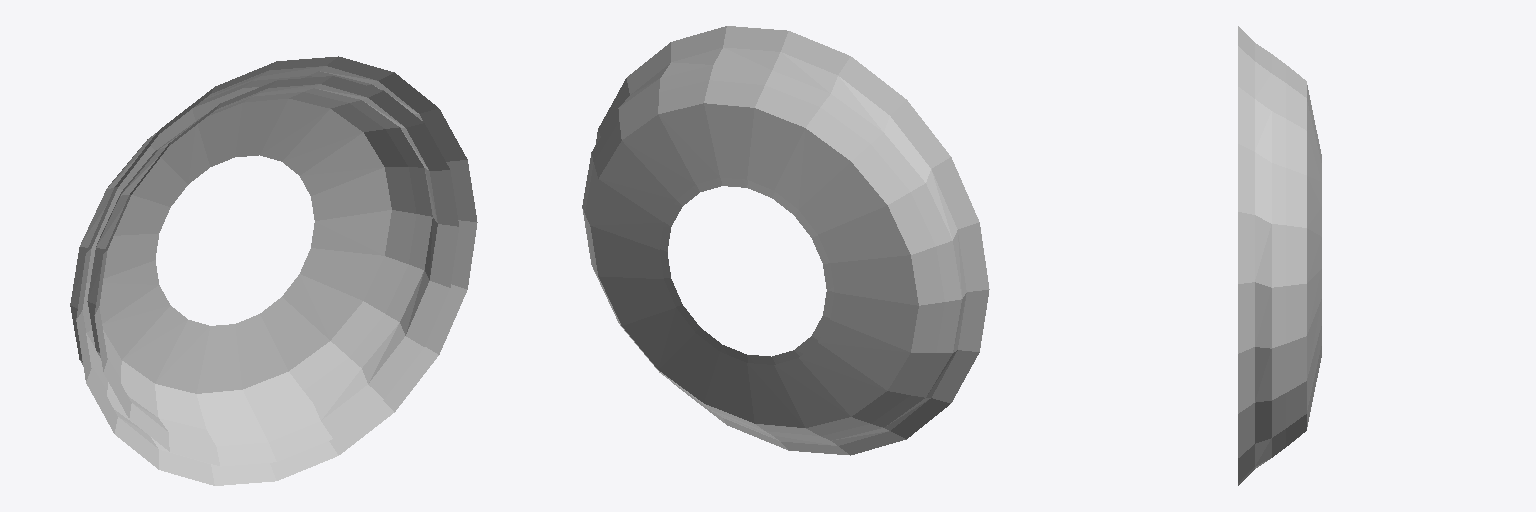
Rendered from beam2.obj.
3 views of the same model, side by side, from view 1: azimuth 30°, elevation 25°; view 2: azimuth 150°, elevation 25°; view 3: azimuth 270°, elevation 25° (orthographic).
Parts seen in each view (by area): view 1: 円柱.001, 円柱.002; view 2: 円柱.002, 円柱.001; view 3: 円柱.002.
Boxes of the visible parts, box(x1,y1,x2,y2) form: 円柱.001: box(87, 76, 458, 466); 円柱.002: box(70, 56, 477, 485); 円柱.002: box(582, 26, 989, 455); 円柱.001: box(660, 178, 834, 364); 円柱.002: box(1238, 26, 1321, 485).
Bounding box in the file's own units: 3.21 × 3.21 × 0.5781.